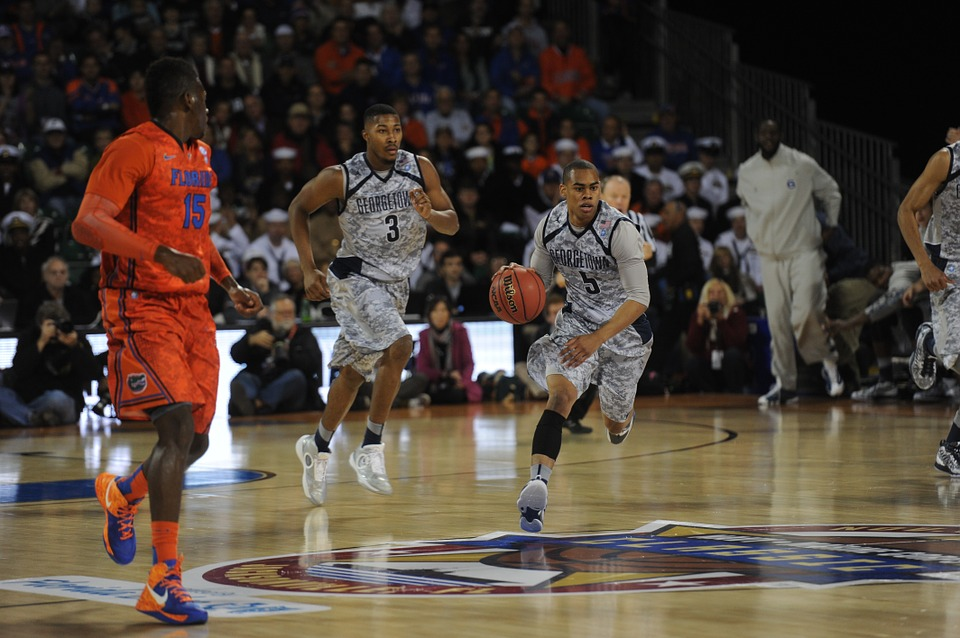basketball: (488, 266, 549, 324)
basketball player: (71, 55, 255, 626), (285, 100, 466, 518), (505, 155, 656, 547), (904, 122, 955, 480)
